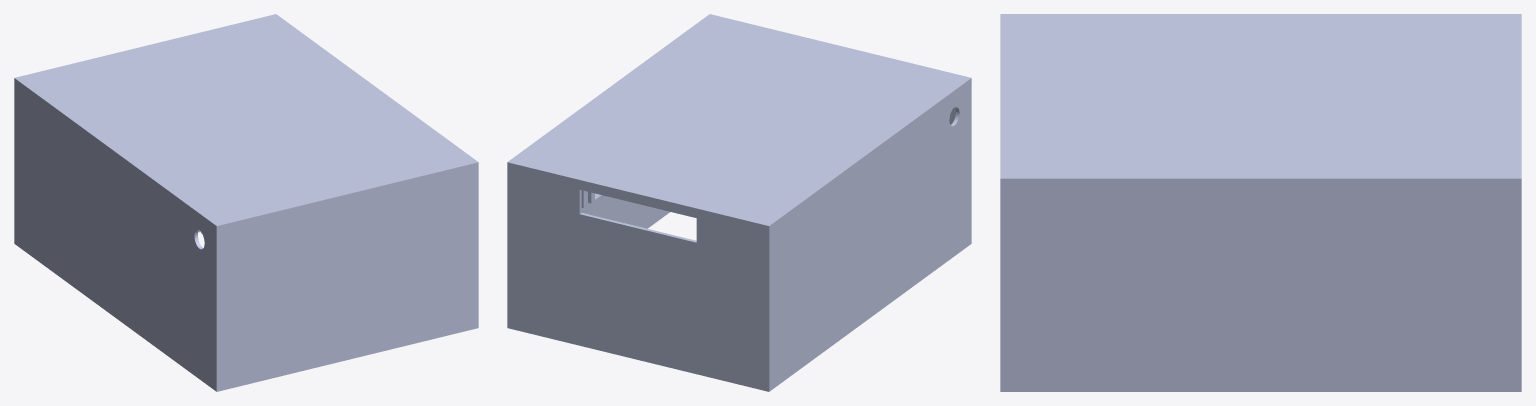
File: zatana_terra_base_vis_82.dae
3 renders of one model, left to right at view 1: azimuth 30°, elevation 25°; view 2: azimuth 150°, elevation 25°; view 3: azimuth 270°, elevation 25°, orthographic. The views are drawn at different scales.
Parts seen in each view (by area): view 1: Node_000002318374BEC0; view 2: Node_000002318374BEC0; view 3: Node_000002318374BEC0.
Part boxes in pixels (x1,y1,x2,y2): Node_000002318374BEC0: [14, 14, 478, 391]; Node_000002318374BEC0: [507, 14, 971, 391]; Node_000002318374BEC0: [1000, 14, 1521, 391].
Size of the model in its own units: 0.224 by 0.1355 by 0.3.
